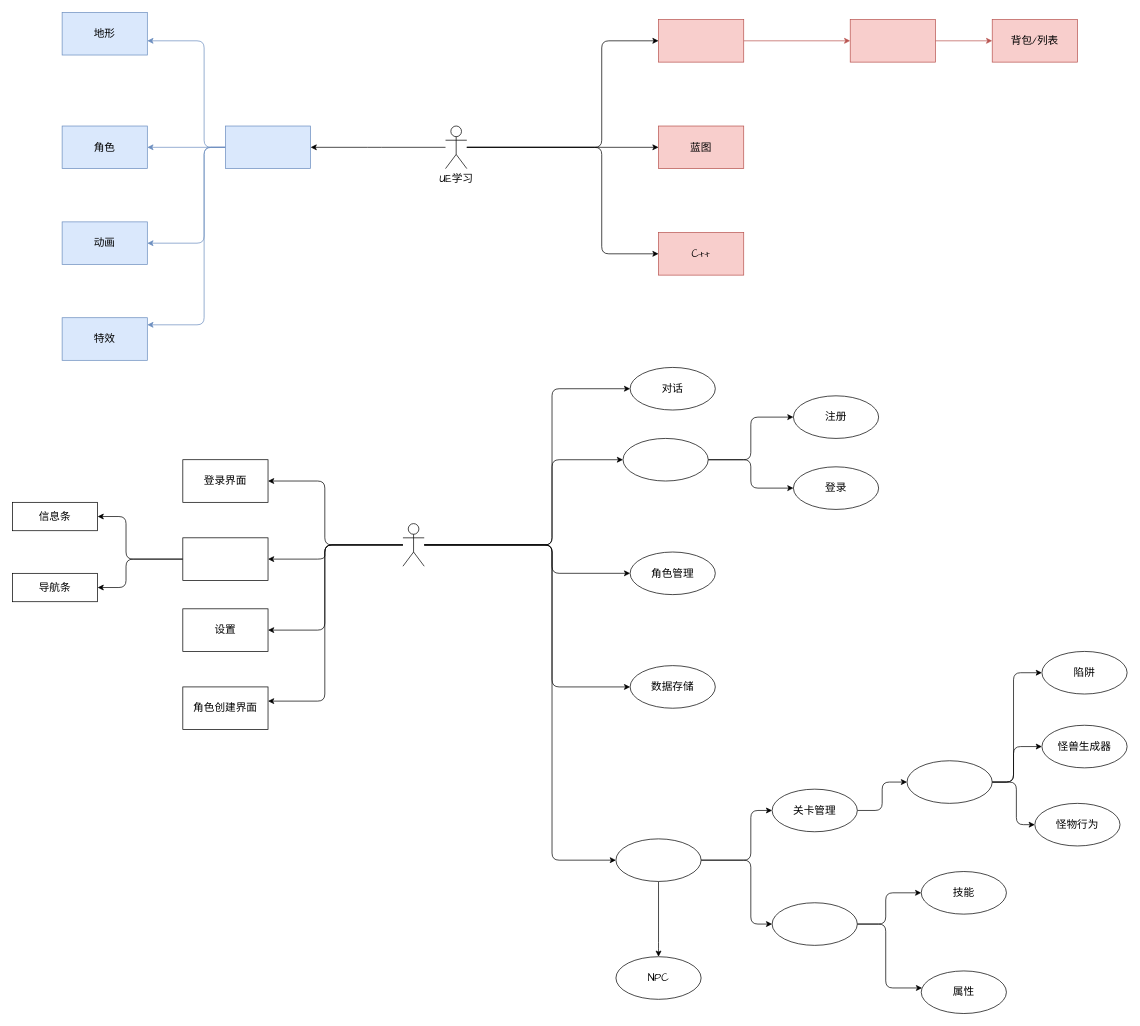
Some shapes in this 1140 by 1026 pixel diagram are drawn without their labels. The box of each missing label's shape, as (x1, y1, x2, y2) in pixels:
UMG: (658, 19, 744, 62)
主界面: (182, 537, 268, 580)
主角: (771, 902, 857, 945)
常见控件: (850, 19, 935, 62)
引擎应用: (225, 125, 311, 169)
怪物管理: (906, 760, 992, 803)
核心玩法: (615, 838, 701, 881)
玩家管理: (622, 438, 708, 481)
项目: (402, 523, 424, 566)
